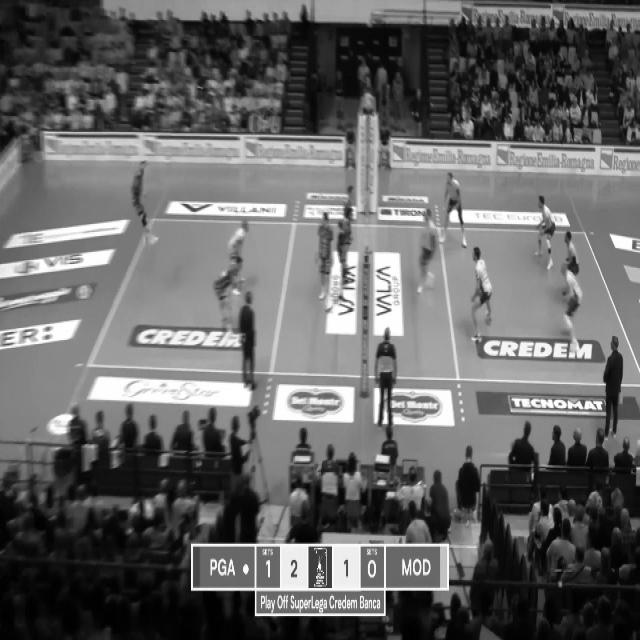volleyball court: (86, 216, 638, 384)
